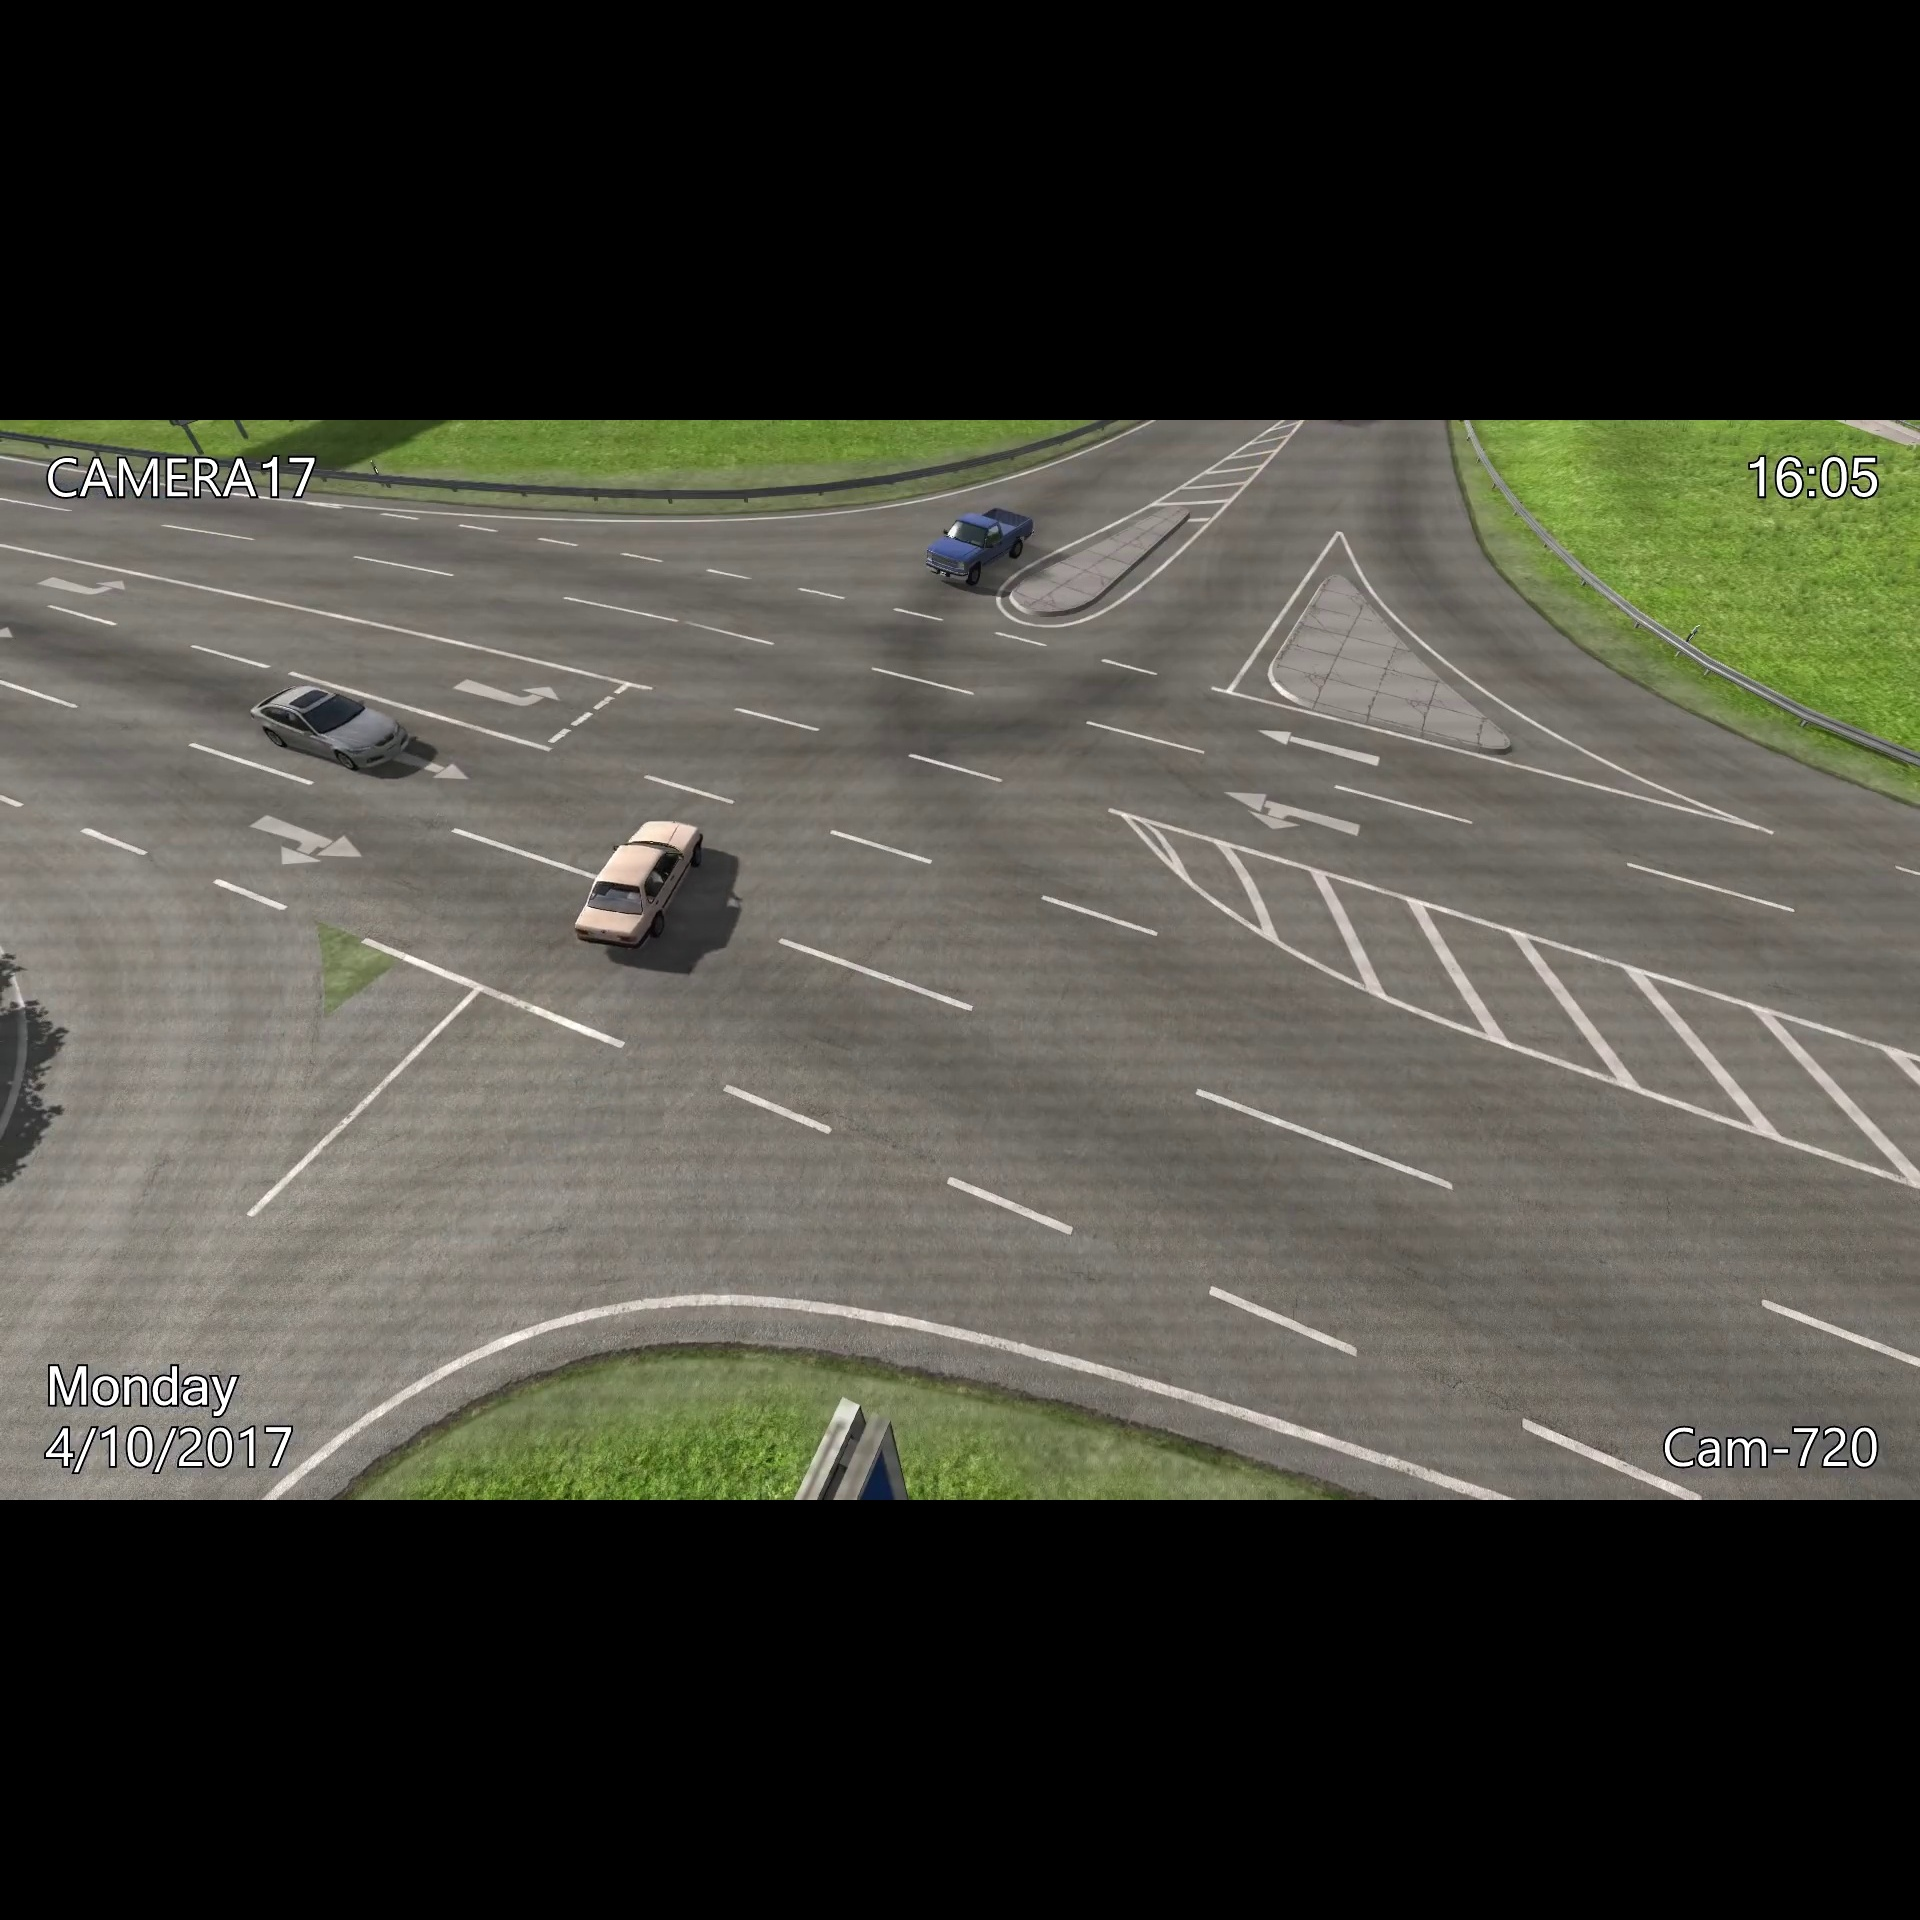vehicle: (566, 811, 712, 960), (244, 677, 417, 774), (918, 499, 1039, 589)
